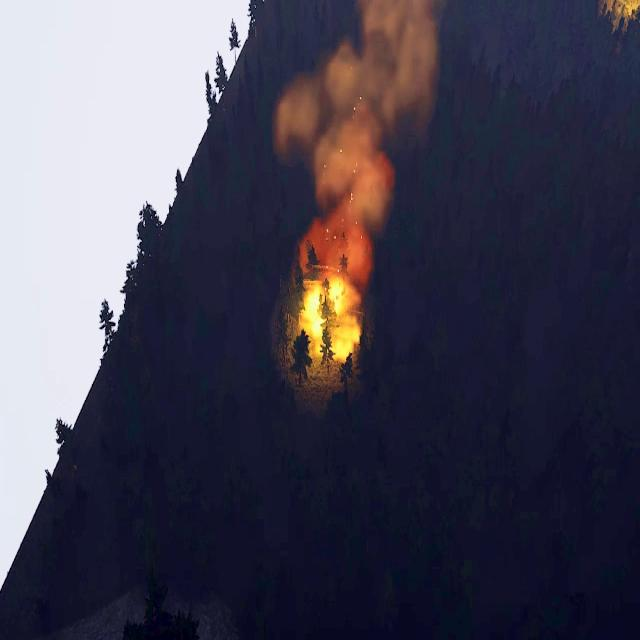fire: (298, 270, 362, 364)
smoke: (276, 4, 440, 278)
